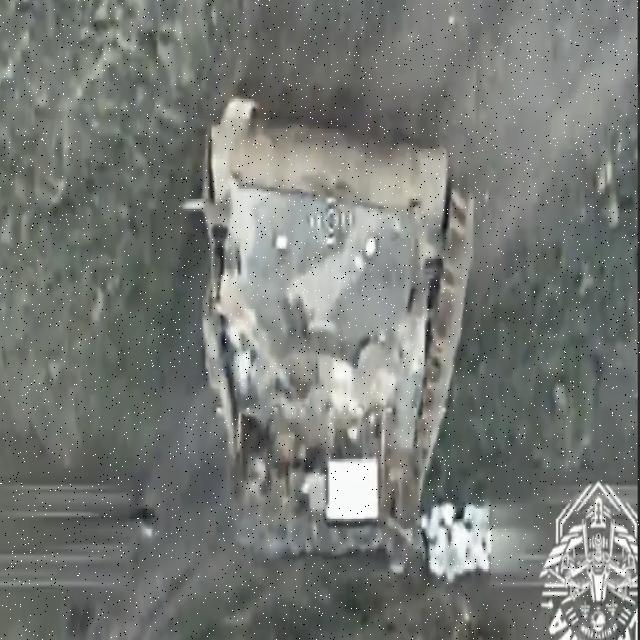APC-IFV: (197, 91, 477, 567)
